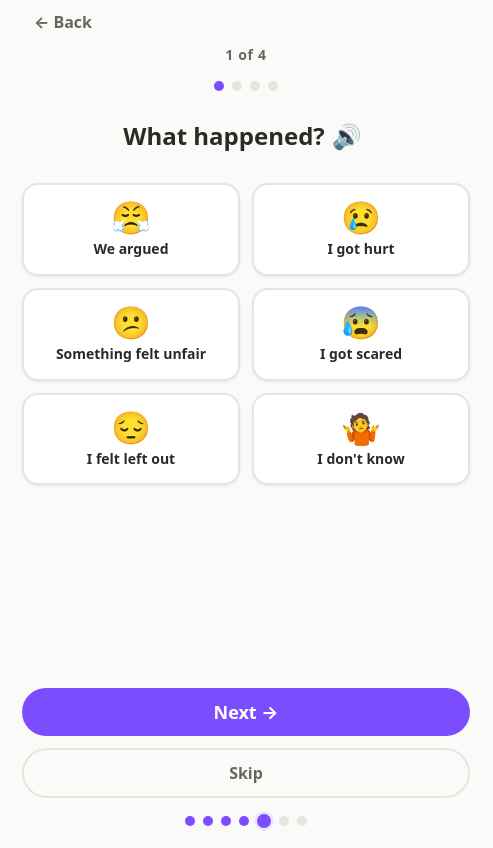
Test: Reflection › shows "Done ✓" button label on the last prompt
Click the button "Next →".
click(246, 712)  # box [22,688,470,736]
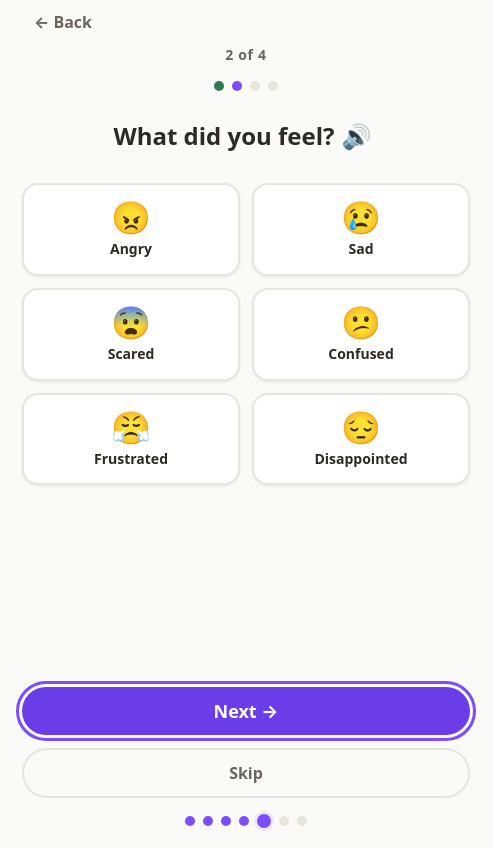
Click the button "Next →".
click(246, 711)  # box [22,687,470,735]
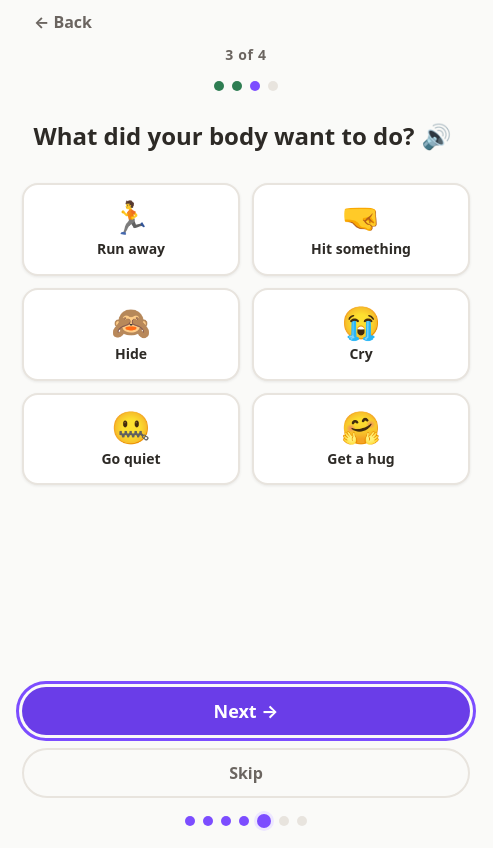
Click the button "Next →".
click(246, 711)  # box [22,687,470,735]
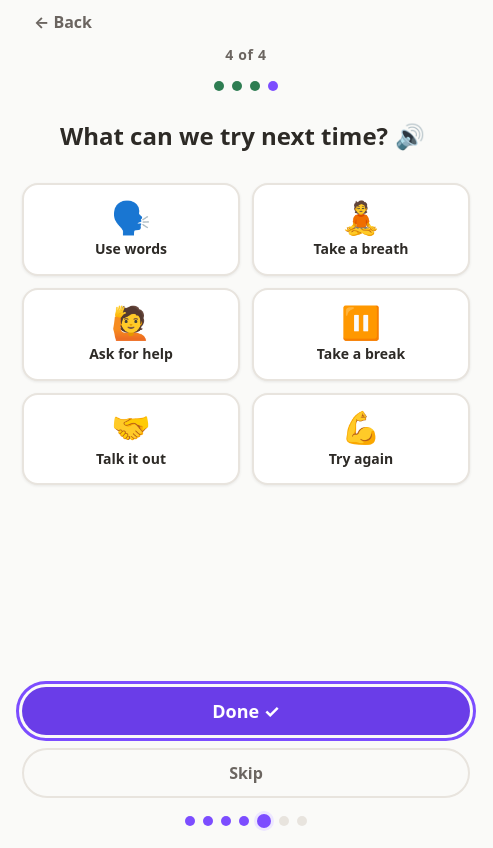
Result: the button "Done ✓" is shown at [22,687,470,735]
